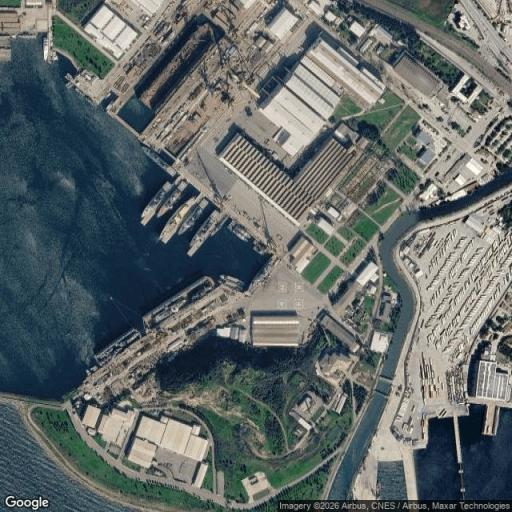ship: (160, 198, 195, 243), (188, 211, 220, 256), (141, 182, 171, 225), (157, 180, 187, 217), (179, 198, 208, 235), (141, 144, 175, 175), (228, 220, 251, 240), (210, 215, 229, 236), (220, 275, 243, 291), (253, 240, 267, 254), (43, 36, 49, 61)
